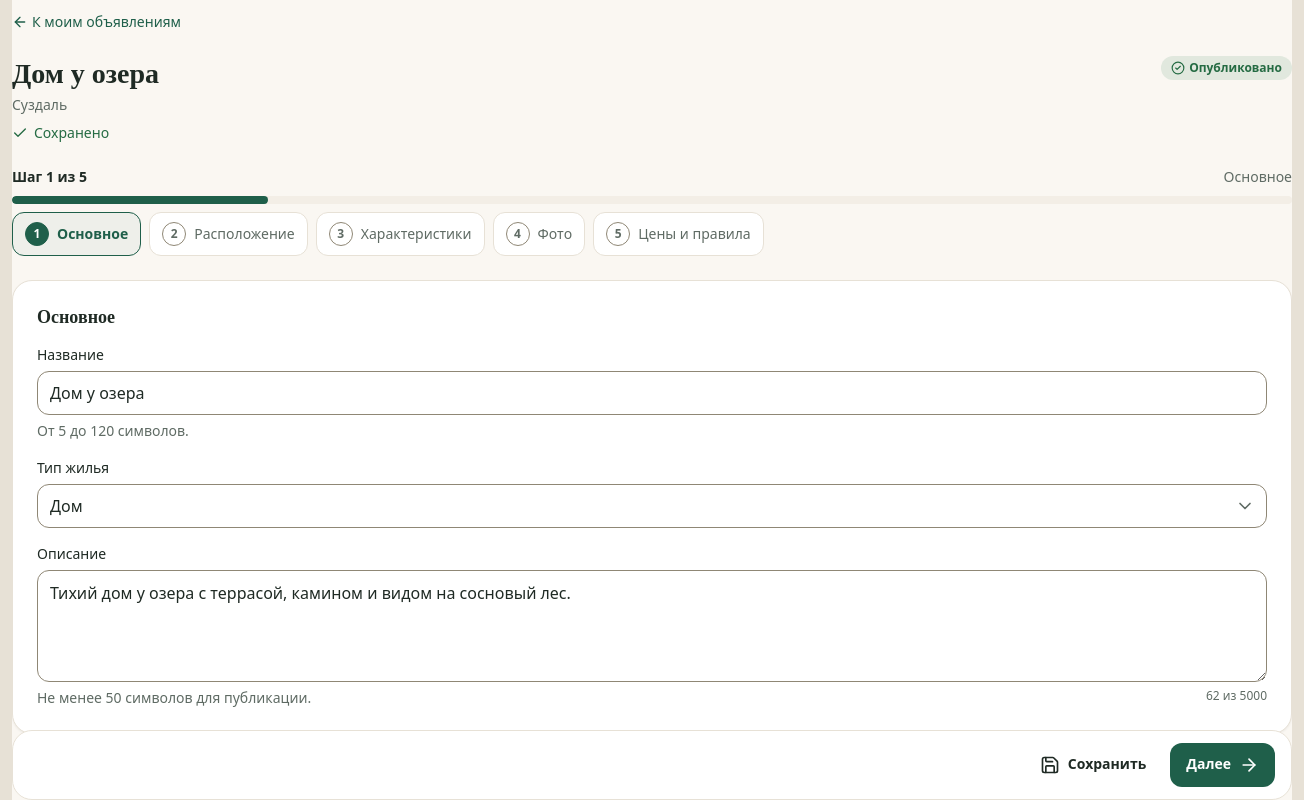
Scenario: ListingWizard › показывает несохранённые изменения у опубликованного объявления
In the field labelled "Название": (652, 393) [37,371,1267,415], type " 2"
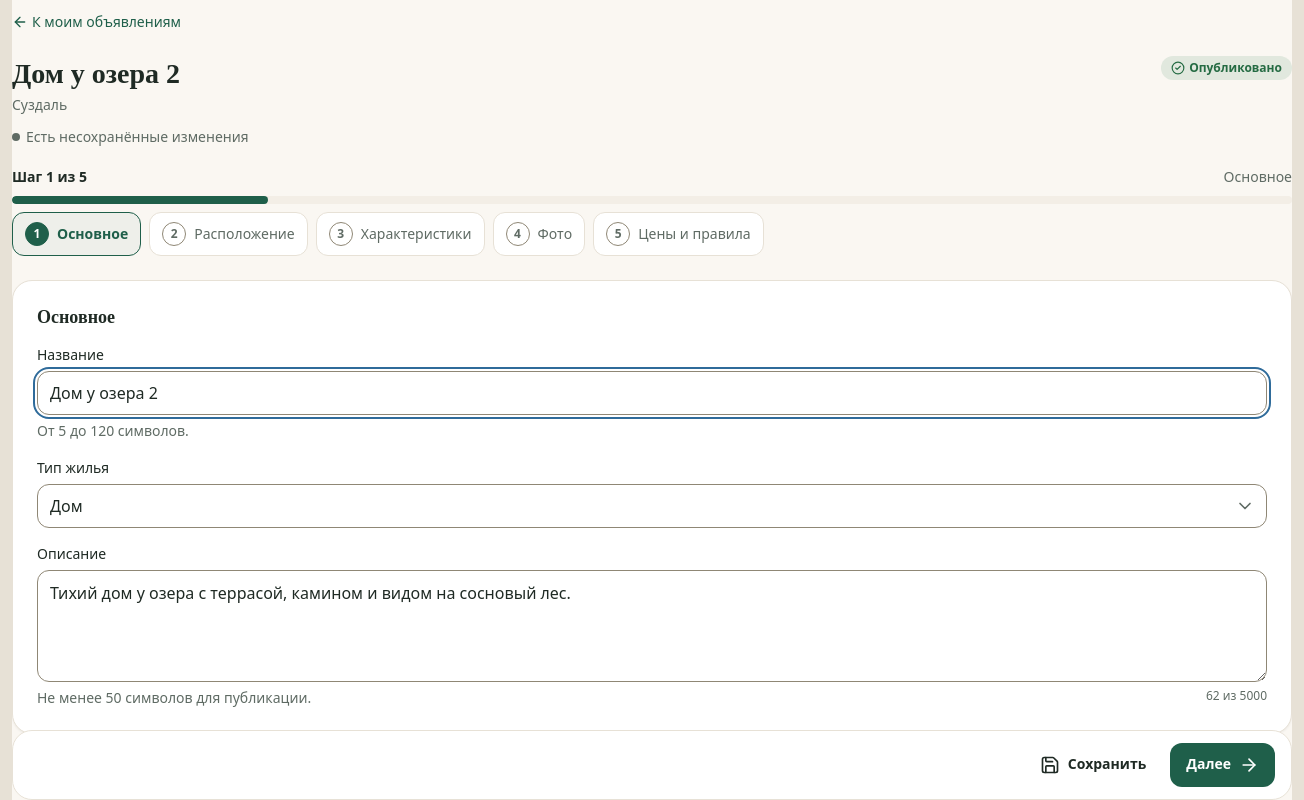
Check: the text "Есть несохранённые изменения" is shown, box [12,127,249,148]
